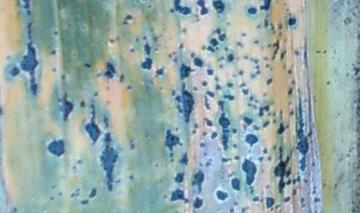tarspot: (21, 21, 39, 97), (100, 133, 117, 191), (295, 101, 313, 154), (273, 146, 290, 192), (163, 129, 182, 160), (85, 105, 100, 143), (58, 91, 74, 122), (218, 112, 231, 150), (182, 82, 194, 123), (242, 158, 257, 186), (170, 186, 190, 204), (191, 169, 205, 194), (47, 138, 65, 156), (103, 61, 118, 78), (174, 1, 192, 15), (269, 38, 280, 60), (179, 63, 194, 79), (245, 132, 259, 148), (214, 188, 228, 201), (197, 1, 209, 16), (230, 176, 241, 192), (258, 104, 271, 117), (141, 57, 153, 71), (212, 1, 225, 13), (265, 195, 275, 210), (122, 13, 134, 25), (174, 170, 185, 183), (88, 185, 98, 199), (298, 156, 307, 171), (203, 116, 214, 128), (180, 152, 189, 166), (193, 57, 204, 68), (193, 197, 203, 209), (102, 113, 110, 128), (10, 66, 20, 77), (260, 1, 271, 11), (287, 16, 297, 27), (242, 115, 252, 126), (143, 43, 151, 56), (217, 99, 225, 112), (222, 93, 235, 101), (278, 121, 286, 134), (210, 37, 220, 47), (212, 25, 222, 35), (247, 7, 258, 16), (175, 103, 184, 114), (204, 97, 211, 111), (220, 156, 232, 163), (78, 100, 87, 109), (156, 67, 165, 76), (206, 89, 215, 98), (214, 83, 223, 92), (236, 40, 245, 49), (128, 140, 136, 150), (118, 72, 125, 83), (269, 21, 276, 32), (22, 1, 31, 9), (52, 28, 60, 37), (81, 198, 90, 206), (125, 83, 133, 92), (198, 141, 207, 149), (205, 68, 214, 76), (227, 53, 235, 62), (252, 123, 261, 131), (201, 78, 208, 88), (175, 94, 182, 104), (282, 195, 292, 202), (299, 196, 305, 207), (262, 17, 268, 28), (281, 49, 287, 60), (127, 173, 135, 181), (241, 205, 249, 213), (263, 182, 271, 190), (83, 62, 92, 69), (210, 132, 217, 141), (232, 154, 241, 161), (241, 88, 250, 95), (262, 119, 269, 128), (291, 188, 298, 197), (266, 78, 273, 87), (60, 73, 67, 81), (11, 206, 19, 213), (189, 51, 197, 58), (205, 160, 212, 168), (208, 46, 215, 54), (219, 34, 227, 41), (213, 75, 220, 83), (231, 127, 238, 135), (231, 142, 238, 150), (252, 196, 260, 203), (239, 81, 246, 89), (253, 39, 261, 46), (266, 155, 273, 163), (80, 25, 88, 32), (278, 20, 283, 31), (313, 197, 322, 203), (295, 174, 301, 183), (286, 168, 292, 177), (311, 159, 317, 168), (287, 87, 293, 96), (51, 66, 58, 73), (75, 187, 82, 194), (93, 91, 100, 98), (146, 3, 153, 10), (193, 84, 200, 91), (178, 43, 185, 50), (104, 84, 111, 91), (252, 58, 259, 65), (250, 71, 257, 78), (71, 51, 78, 58), (1, 106, 5, 118), (95, 71, 103, 77), (170, 88, 176, 96), (173, 56, 179, 64), (249, 187, 255, 195), (216, 55, 224, 61), (227, 82, 235, 88), (262, 147, 268, 155), (286, 178, 292, 186), (294, 49, 300, 57), (287, 99, 293, 107), (201, 43, 206, 52), (312, 186, 317, 195), (26, 9, 32, 16), (77, 157, 83, 164), (71, 163, 77, 170), (70, 191, 76, 198), (129, 46, 135, 53), (169, 8, 176, 14), (191, 129, 198, 135), (223, 45, 229, 52), (238, 69, 244, 76), (240, 32, 247, 38), (246, 102, 253, 108), (271, 110, 277, 117), (255, 24, 262, 30), (262, 91, 268, 98), (51, 48, 56, 56), (278, 109, 283, 117), (262, 55, 267, 63), (58, 190, 64, 196), (109, 38, 115, 44), (142, 35, 148, 41), (153, 162, 159, 168), (233, 201, 239, 207), (303, 178, 309, 184), (289, 110, 295, 116), (264, 63, 270, 69), (277, 31, 283, 37), (135, 36, 140, 43), (162, 193, 167, 200), (182, 27, 187, 34), (167, 54, 174, 59), (202, 130, 207, 137), (290, 80, 297, 85), (285, 5, 290, 12), (226, 20, 231, 27), (49, 195, 55, 200), (199, 161, 204, 167), (194, 123, 199, 129), (229, 208, 235, 213), (243, 55, 249, 60), (255, 64, 260, 70), (256, 70, 261, 76), (249, 95, 254, 101), (259, 156, 264, 162), (292, 178, 297, 184), (272, 119, 278, 124), (288, 69, 293, 75), (282, 63, 287, 69), (51, 183, 56, 188), (203, 152, 208, 157), (218, 64, 224, 68)
